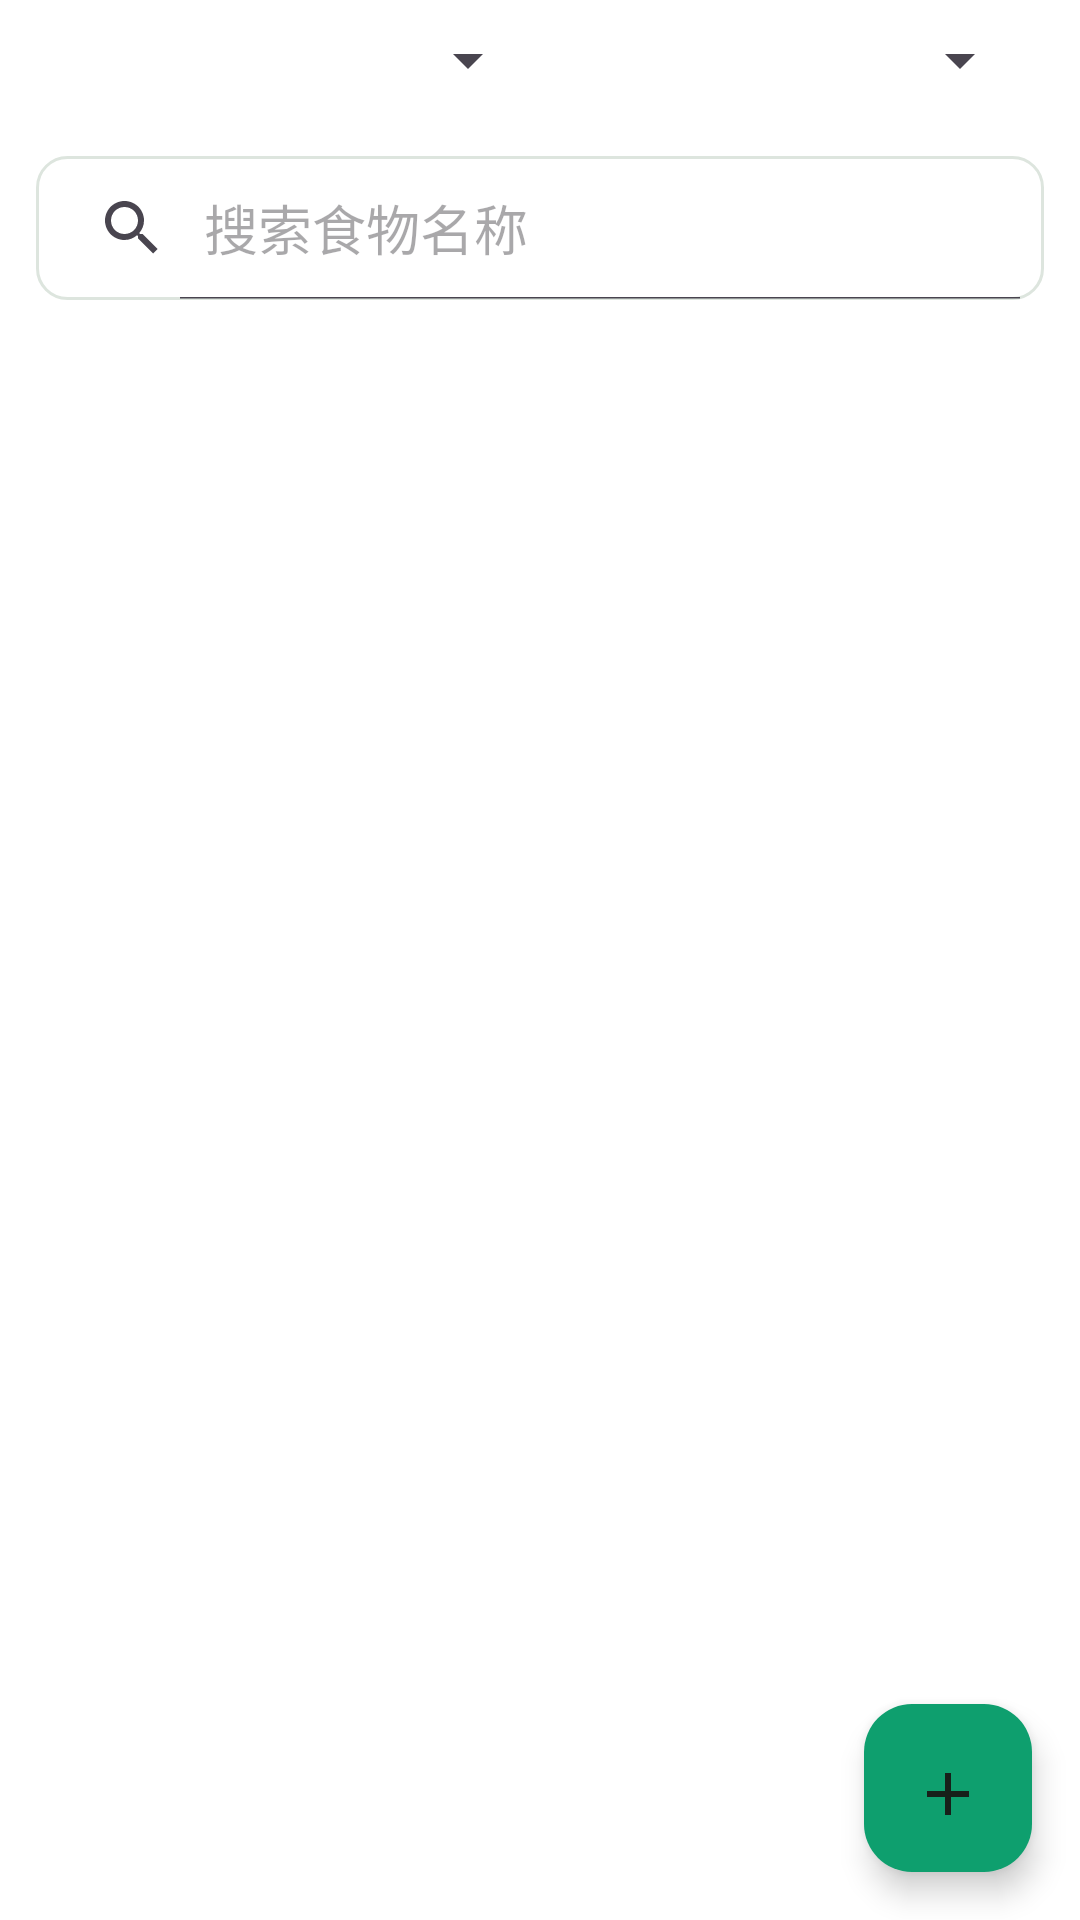

Screen size 1080x1920. Icon name, then its center in pixels as [x,y]:
添加食物: [948,1788]
